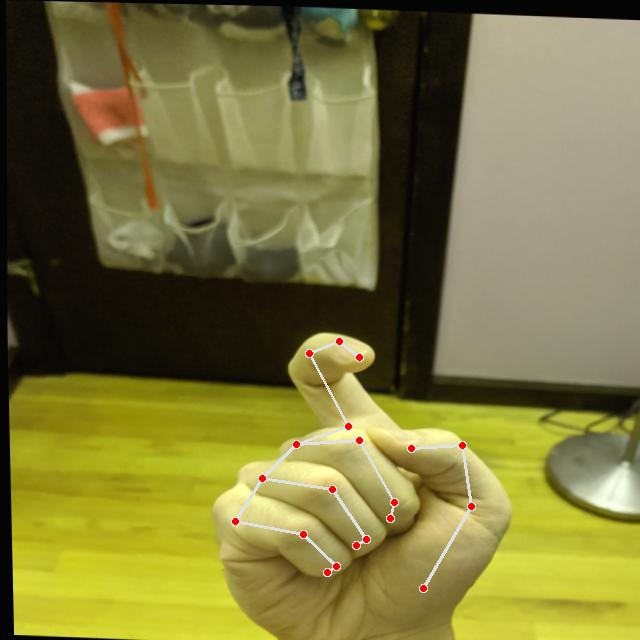X: (191, 319, 525, 639)
